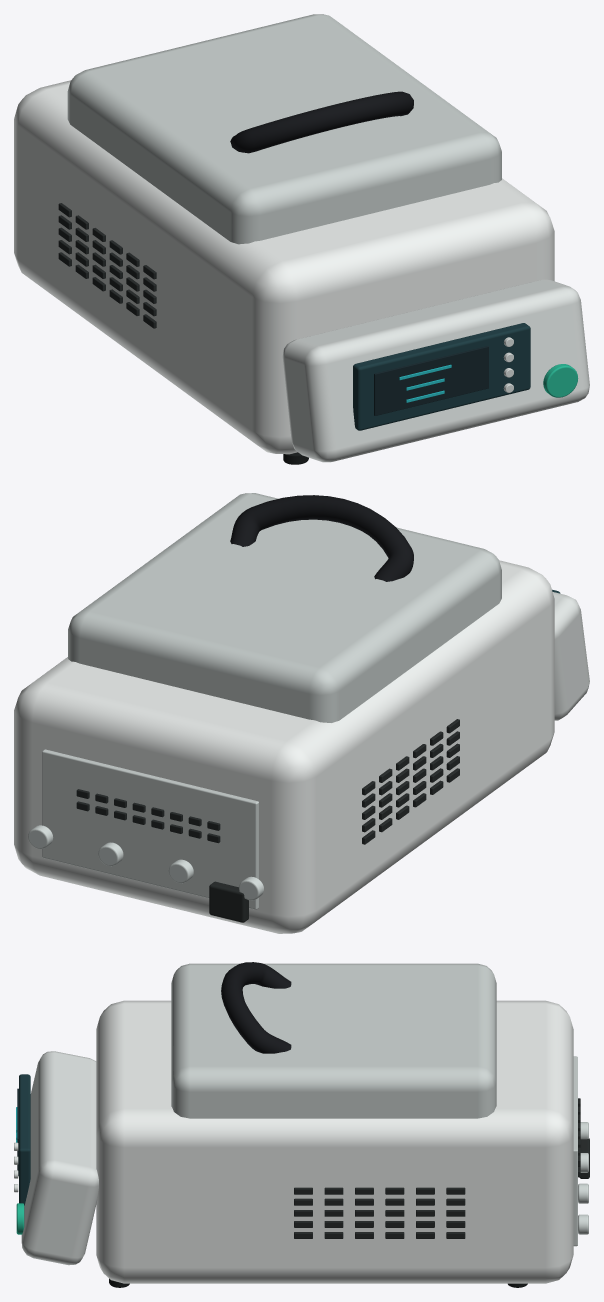
Rendered from pcr-machine.glb.
3 renders of one model, top to bottom at view 1: azimuth 30°, elevation 25°; view 2: azimuth 150°, elevation 25°; view 3: azimuth 270°, elevation 25°, orthographic. The views are drawn at different scales.
Parts seen in each view (by area): view 1: Runtime batch - Cool white instrument polymer, Runtime batch - Light instrument gray powder coat, Runtime batch - Light bead-blasted aluminum, Runtime batch - Smoked control display, Runtime batch - Smoked instrument display glass, Runtime batch - Matte black coated handle, Runtime batch - Casework seam shadow, Runtime batch - Status indicator green; view 2: Runtime batch - Cool white instrument polymer, Runtime batch - Light instrument gray powder coat, Runtime batch - Casework seam shadow, Runtime batch - Matte black coated handle, Runtime batch - Light bead-blasted aluminum, Runtime batch - Brushed analytical silver; view 3: Runtime batch - Cool white instrument polymer, Runtime batch - Light instrument gray powder coat, Runtime batch - Light bead-blasted aluminum, Runtime batch - Casework seam shadow, Runtime batch - Matte black coated handle, Runtime batch - Smoked control display, Runtime batch - Brushed analytical silver.
Boxes of the visible parts, x1,y1,x2,y2 form: Runtime batch - Cool white instrument polymer: (14, 80, 554, 454); Runtime batch - Light instrument gray powder coat: (67, 14, 501, 244); Runtime batch - Light bead-blasted aluminum: (282, 279, 589, 462); Runtime batch - Smoked control display: (353, 323, 530, 430); Runtime batch - Smoked instrument display glass: (374, 346, 488, 415); Runtime batch - Matte black coated handle: (230, 91, 413, 153); Runtime batch - Casework seam shadow: (58, 203, 156, 328); Runtime batch - Status indicator green: (543, 364, 578, 397); Runtime batch - Cool white instrument polymer: (14, 560, 554, 933); Runtime batch - Light instrument gray powder coat: (42, 493, 501, 909); Runtime batch - Casework seam shadow: (76, 719, 459, 922); Runtime batch - Matte black coated handle: (230, 495, 413, 581); Runtime batch - Light bead-blasted aluminum: (552, 592, 589, 720); Runtime batch - Brushed analytical silver: (28, 825, 263, 900); Runtime batch - Cool white instrument polymer: (96, 1000, 573, 1283); Runtime batch - Light instrument gray powder coat: (171, 963, 577, 1246); Runtime batch - Light bead-blasted aluminum: (14, 1051, 98, 1265); Runtime batch - Casework seam shadow: (294, 1098, 589, 1238); Runtime batch - Matte black coated handle: (221, 962, 291, 1053); Runtime batch - Smoked control display: (19, 1074, 30, 1205); Runtime batch - Brushed analytical silver: (578, 1122, 588, 1234).
Bounding box in the file's own units: 0.26 × 0.23 × 0.47.
